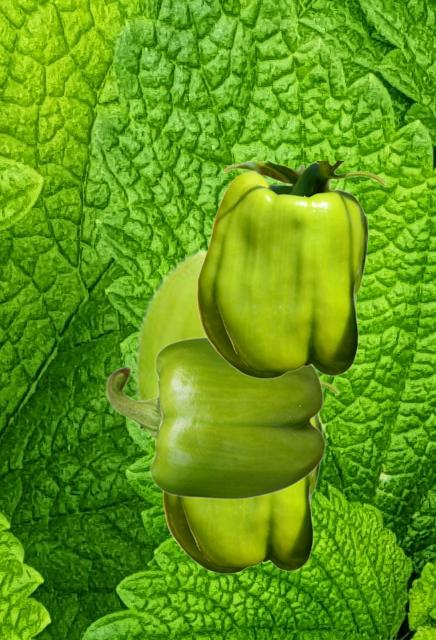bell_pepper: (196, 161, 385, 378), (105, 336, 325, 499), (162, 380, 338, 573), (132, 244, 207, 398)
